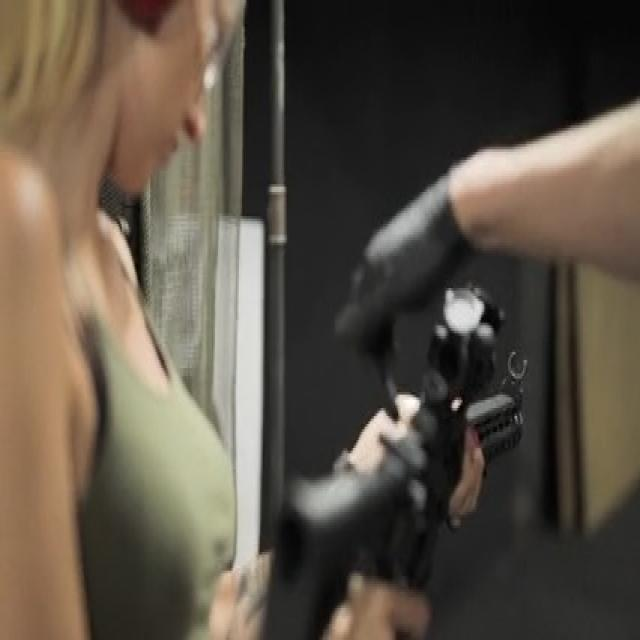Gun_Holder: (235, 260, 622, 631)
Person: (0, 0, 430, 640)
